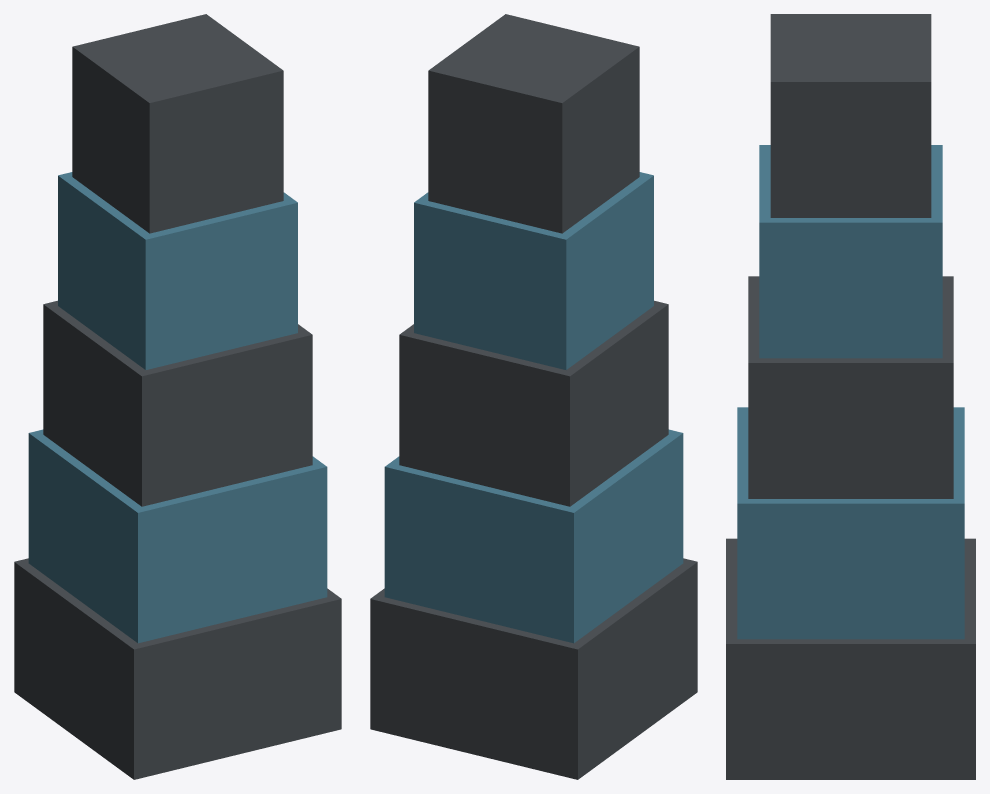
The model's file is bh_cr_skyscraper_tower_01_lod0.glb.
The picture shows the model from 3 angles, left to right: view 1: azimuth 30°, elevation 25°; view 2: azimuth 150°, elevation 25°; view 3: azimuth 270°, elevation 25°; orthographic projection. The views are drawn at different scales.
Parts seen in each view (by area): view 1: bh_cr_skyscraper_tower_01_tier_0, bh_cr_skyscraper_tower_01_tier_1, bh_cr_skyscraper_tower_01_tier_4, bh_cr_skyscraper_tower_01_tier_2, bh_cr_skyscraper_tower_01_tier_3; view 2: bh_cr_skyscraper_tower_01_tier_0, bh_cr_skyscraper_tower_01_tier_1, bh_cr_skyscraper_tower_01_tier_4, bh_cr_skyscraper_tower_01_tier_2, bh_cr_skyscraper_tower_01_tier_3; view 3: bh_cr_skyscraper_tower_01_tier_0, bh_cr_skyscraper_tower_01_tier_1, bh_cr_skyscraper_tower_01_tier_4, bh_cr_skyscraper_tower_01_tier_2, bh_cr_skyscraper_tower_01_tier_3.
Boxes of the visible parts, x1,y1,x2,y2 form: bh_cr_skyscraper_tower_01_tier_0: [14, 558, 341, 779]; bh_cr_skyscraper_tower_01_tier_1: [28, 429, 327, 643]; bh_cr_skyscraper_tower_01_tier_4: [72, 14, 283, 233]; bh_cr_skyscraper_tower_01_tier_2: [43, 300, 312, 506]; bh_cr_skyscraper_tower_01_tier_3: [58, 172, 297, 369]; bh_cr_skyscraper_tower_01_tier_0: [370, 558, 697, 779]; bh_cr_skyscraper_tower_01_tier_1: [384, 429, 683, 643]; bh_cr_skyscraper_tower_01_tier_4: [428, 14, 639, 233]; bh_cr_skyscraper_tower_01_tier_2: [399, 300, 668, 506]; bh_cr_skyscraper_tower_01_tier_3: [414, 172, 653, 369]; bh_cr_skyscraper_tower_01_tier_0: [726, 538, 975, 779]; bh_cr_skyscraper_tower_01_tier_1: [737, 407, 964, 639]; bh_cr_skyscraper_tower_01_tier_4: [770, 14, 931, 217]; bh_cr_skyscraper_tower_01_tier_2: [748, 276, 953, 498]; bh_cr_skyscraper_tower_01_tier_3: [759, 145, 942, 358].
Size of the model in its own units: 18 by 54 by 18.
